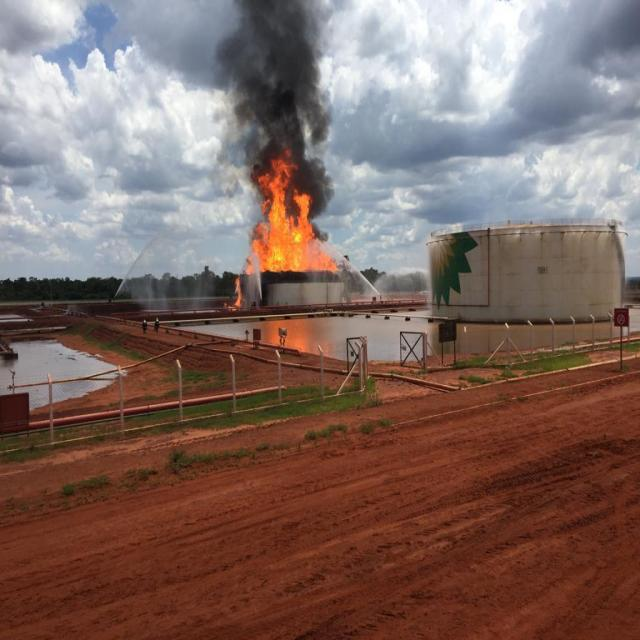fire: (243, 194, 337, 276)
smoke: (228, 4, 329, 150)
